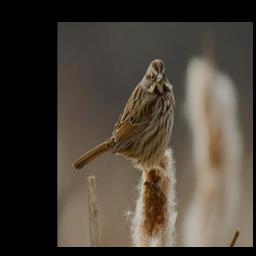Sparrow: (72, 57, 177, 201)
